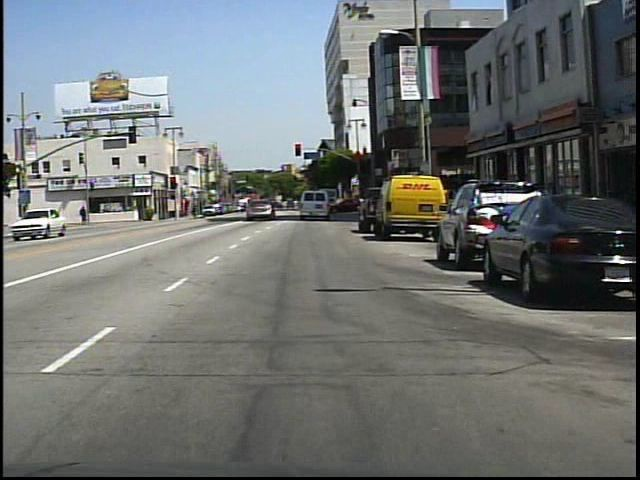person: (254, 192, 271, 222), (80, 205, 88, 226)
